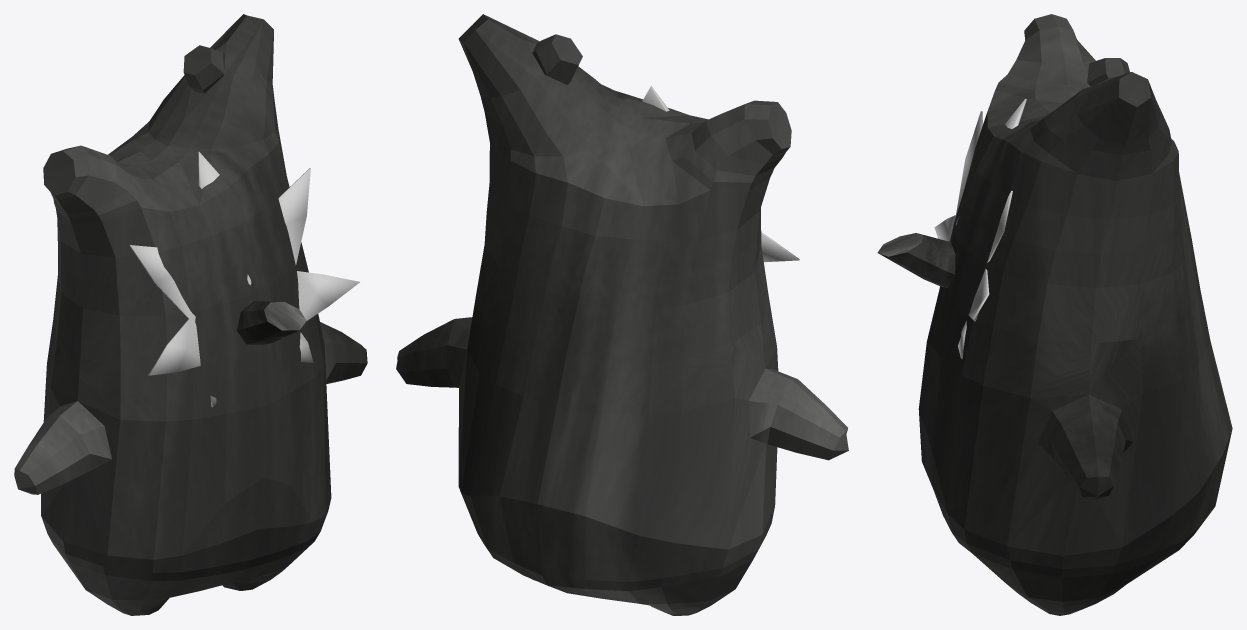
The model's file is frame_0023.obj.
3 renders of one model, left to right at view 1: azimuth 30°, elevation 25°; view 2: azimuth 150°, elevation 25°; view 3: azimuth 270°, elevation 25°, orthographic. The views are drawn at different scales.
Visible parts, largest first — view 1: korok, leaf.003_柱体.013, nose.003_柱体.011; view 2: korok, leaf.003_柱体.013; view 3: korok, nose.003_柱体.011, leaf.003_柱体.013.
Part boxes in pixels (<box>): korok: <box>14,14,367,615</box>; leaf.003_柱体.013: <box>129,151,359,407</box>; nose.003_柱体.011: <box>237,301,306,345</box>; korok: <box>396,14,848,615</box>; leaf.003_柱体.013: <box>642,86,799,262</box>; korok: <box>918,14,1232,615</box>; nose.003_柱体.011: <box>877,233,955,287</box>; leaf.003_柱体.013: <box>934,99,1026,358</box>.
Bounding box in the file's own units: 1.7 × 2.29 × 1.32.
